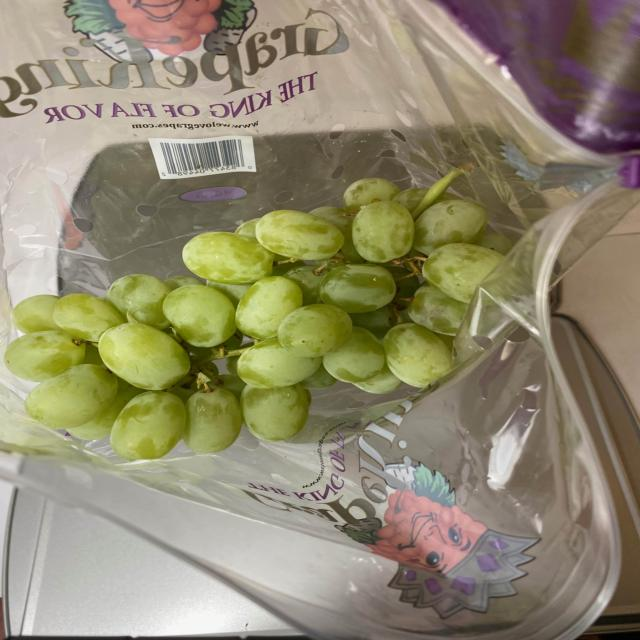grapes: (12, 165, 520, 452)
